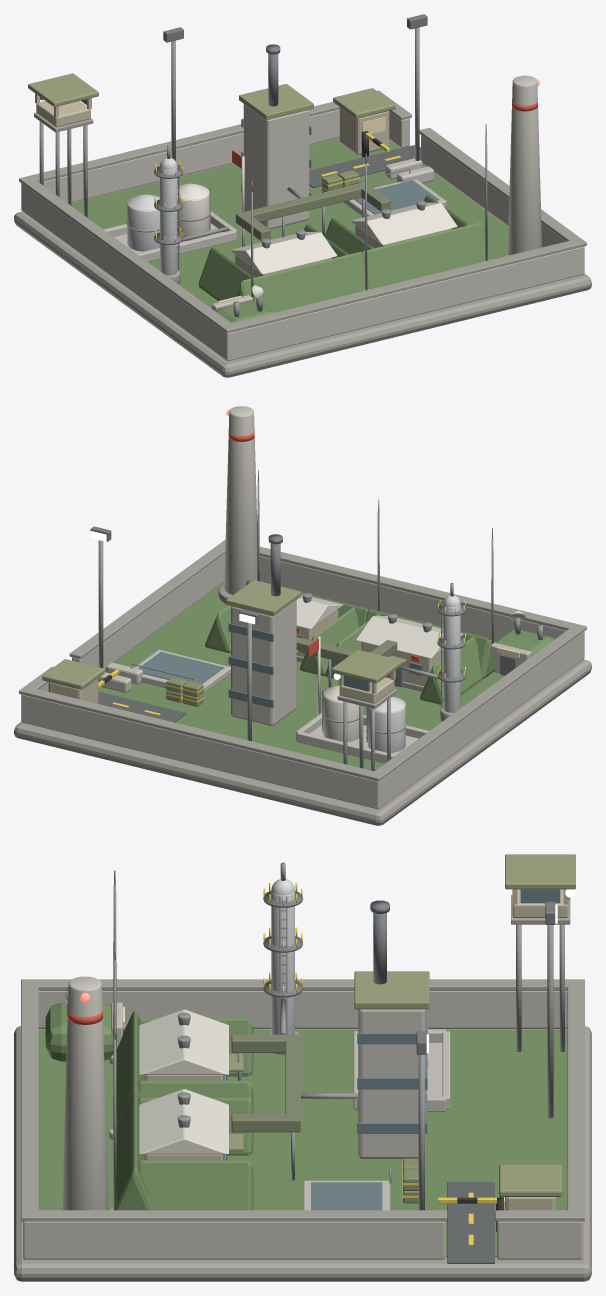
File: tnt_10.glb
The picture shows the model from 3 angles, top to bottom: view 1: azimuth 30°, elevation 25°; view 2: azimuth 150°, elevation 25°; view 3: azimuth 270°, elevation 25°; orthographic projection. The views are drawn at different scales.
Visible parts, largest first — view 1: Cube.001, Cube, Cube.100, Cube.052, Cube.102, Cube.098, Cone.009, prism.004, prism, Cube.101, Cube.103, Cube.106 (+24 smaller); view 2: Cube.001, Cube, Cube.098, Cube.100, Cube.052, Cube.102, Cone.009, Cube.106, Cube.099, Cube.103, Cube.101, prism.003 (+24 smaller); view 3: Cube.001, Cube, Cube.106, Cube.102, Cone.009, Cube.052, prism.006, prism.007, Cube.107, prism.003, Cube.103, Cube.101 (+35 smaller).
Boxes of the visible parts, x1,y1,x2,y2 form: Cube.001: (71,138,508,308); Cube: (14,137,591,377); Cube.100: (223,246,584,361); Cube.052: (243,104,309,229); Cube.102: (24,185,223,358); Cube.098: (21,109,339,211); Cone.009: (507,75,541,255); prism.004: (362,222,490,289); prism: (236,252,368,312); Cube.101: (220,238,586,333); Cube.103: (21,178,230,330); Cube.106: (421,135,566,247); Cube.001: (98,582,504,770); Cube: (14,582,591,825); Cube.098: (21,694,382,809); Cube.100: (259,556,584,660); Cube.052: (231,600,296,725); Cube.102: (382,634,581,806); Cone.009: (224,406,257,595); Cube.106: (72,554,225,668); Cube.099: (19,686,384,781); Cube.103: (375,626,584,778); Cube.101: (221,539,586,633); prism.003: (356,615,463,658); Cube.001: (38,1029,567,1257); Cube: (14,1026,591,1281); Cube.106: (31,1221,445,1259); Cube.102: (38,990,567,1028); Cone.009: (62,976,108,1210); Cube.052: (358,1009,425,1158); prism.006: (137,1160,253,1210); prism.007: (139,1089,228,1154); Cube.107: (29,1210,447,1221); prism.003: (139,1009,228,1074); Cube.103: (29,979,576,990); Cube.101: (21,979,38,1221).
Bounding box in the file's own units: 2.92 × 1.53 × 2.92.
